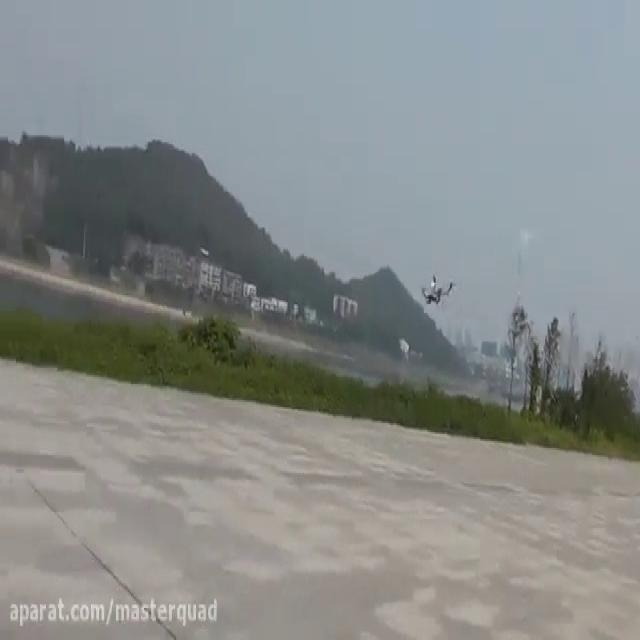drone: (417, 270, 458, 308)
